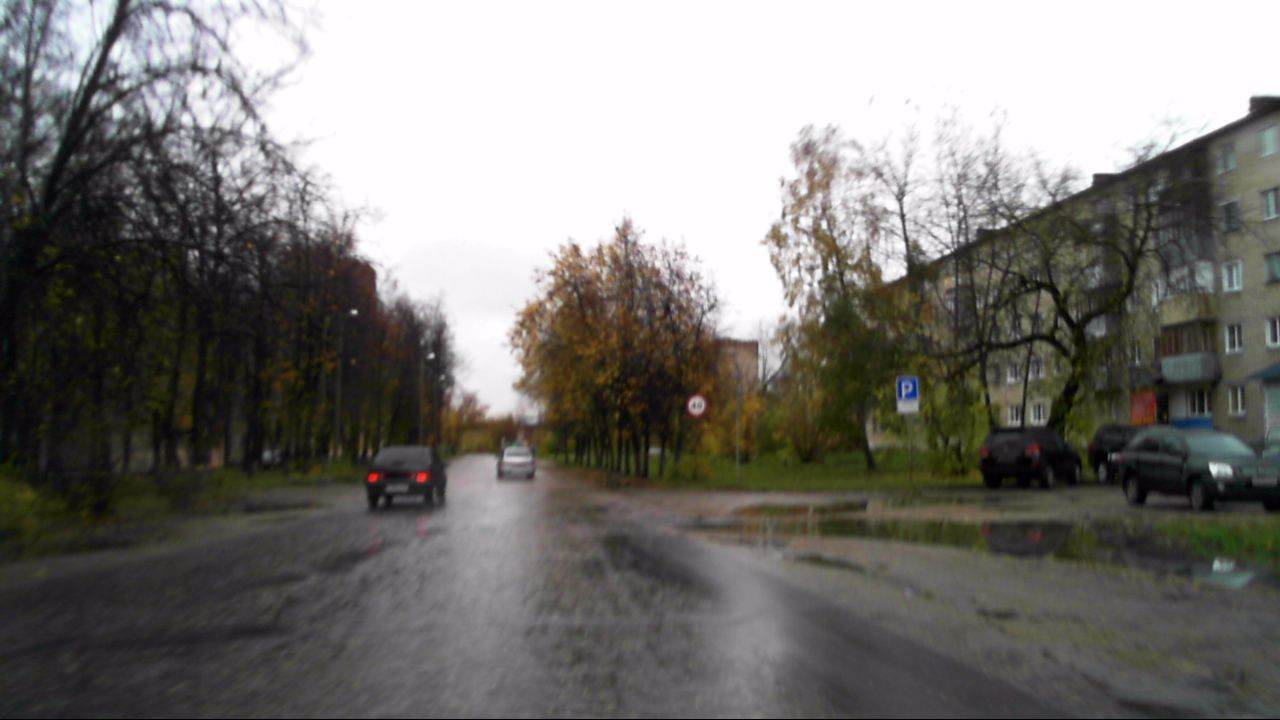speed_warning_40: (685, 395, 706, 414)
